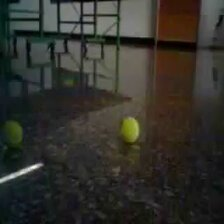tennis: (2, 122, 24, 150), (119, 117, 140, 143)
